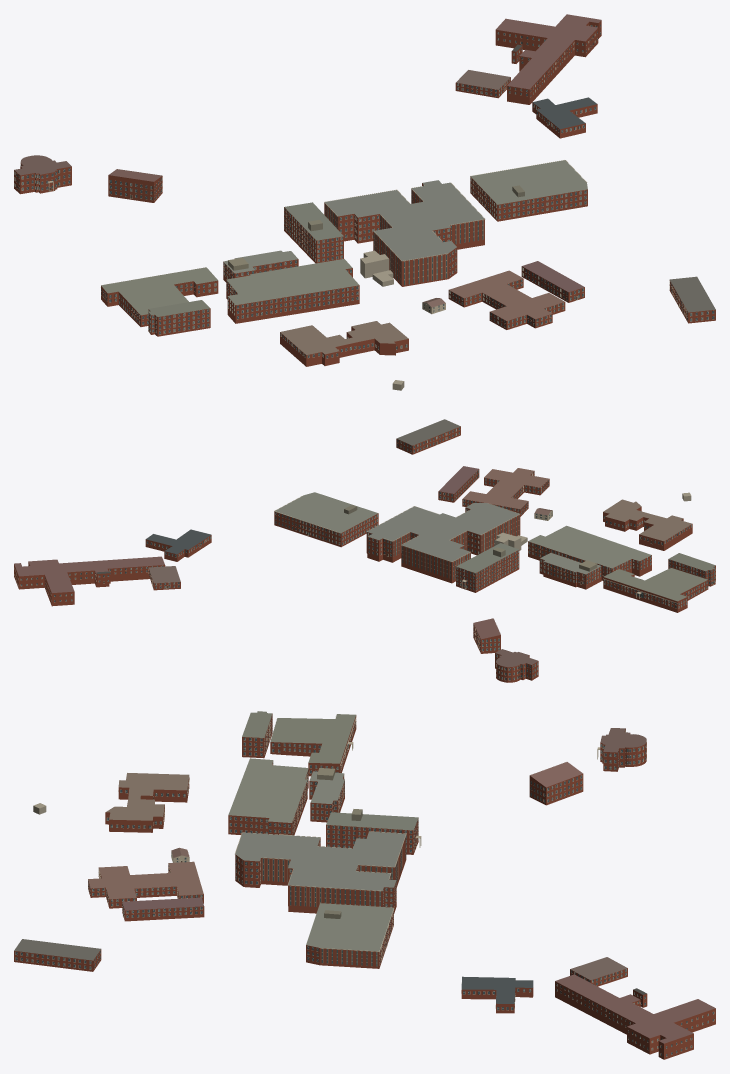
The picture shows the model from 3 angles, top to bottom: view 1: azimuth 30°, elevation 25°; view 2: azimuth 150°, elevation 25°; view 3: azimuth 270°, elevation 25°; orthographic projection. The views are drawn at different scales.
Parts seen in each view (by area): view 1: -3_0_187869326_1, -3_0_318273986_9; view 2: -3_0_187869326_1, -3_0_318273986_9; view 3: -3_0_187869326_1, -3_0_318273986_9.
Boxes of the visible parts, <box> form: -3_0_187869326_1: <box>14,14,715,390</box>; -3_0_318273986_9: <box>325,190,483,285</box>; -3_0_187869326_1: <box>14,419,715,682</box>; -3_0_318273986_9: <box>393,516,643,597</box>; -3_0_187869326_1: <box>14,711,715,1059</box>; -3_0_318273986_9: <box>263,744,406,966</box>.
Bounding box in the file's own units: 565 × 28.99 × 513.
